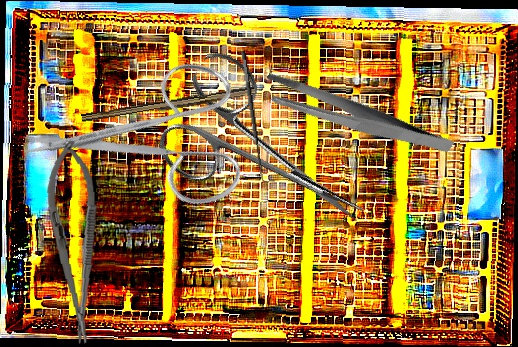Dressing Forceps: (257, 34, 455, 199)
Hook Surgical: (239, 48, 275, 185)
Iris Scissors: (12, 8, 286, 280), (145, 45, 396, 267)
Needle Holder: (41, 139, 108, 346)
Scalpel Handle: (81, 83, 256, 128)
